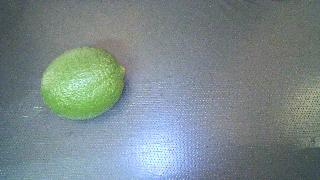EXPORTACION: (41, 47, 125, 119)
